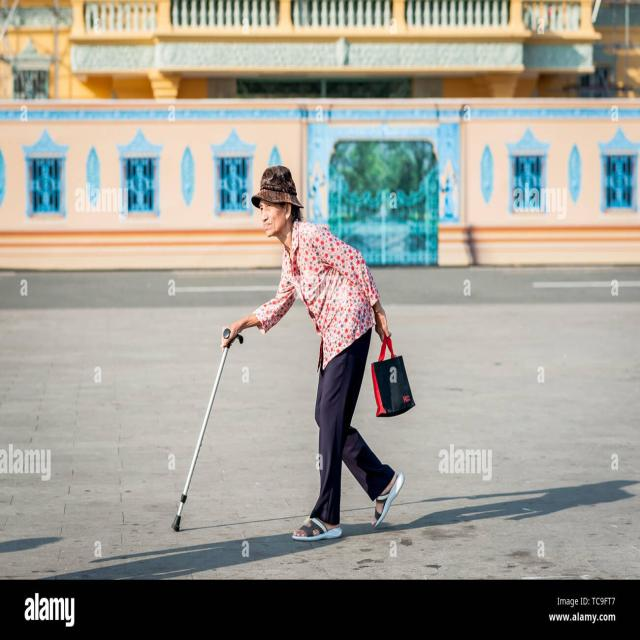idoso em pe: (250, 161, 414, 549)
